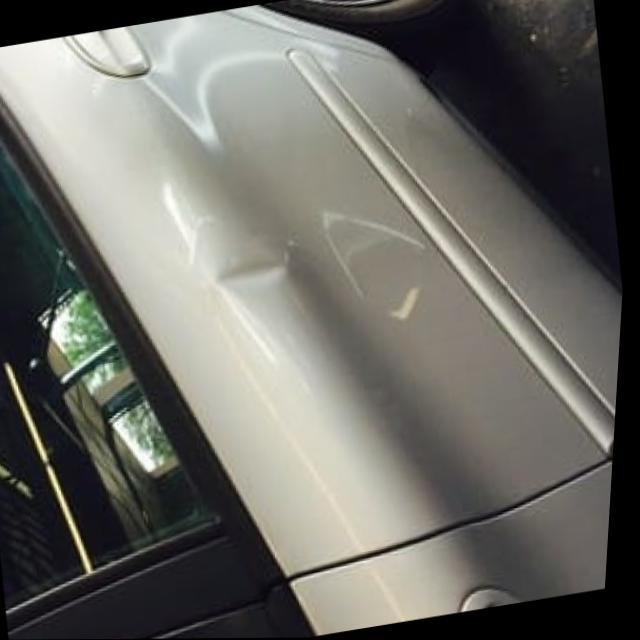Dent: (200, 212, 316, 330)
